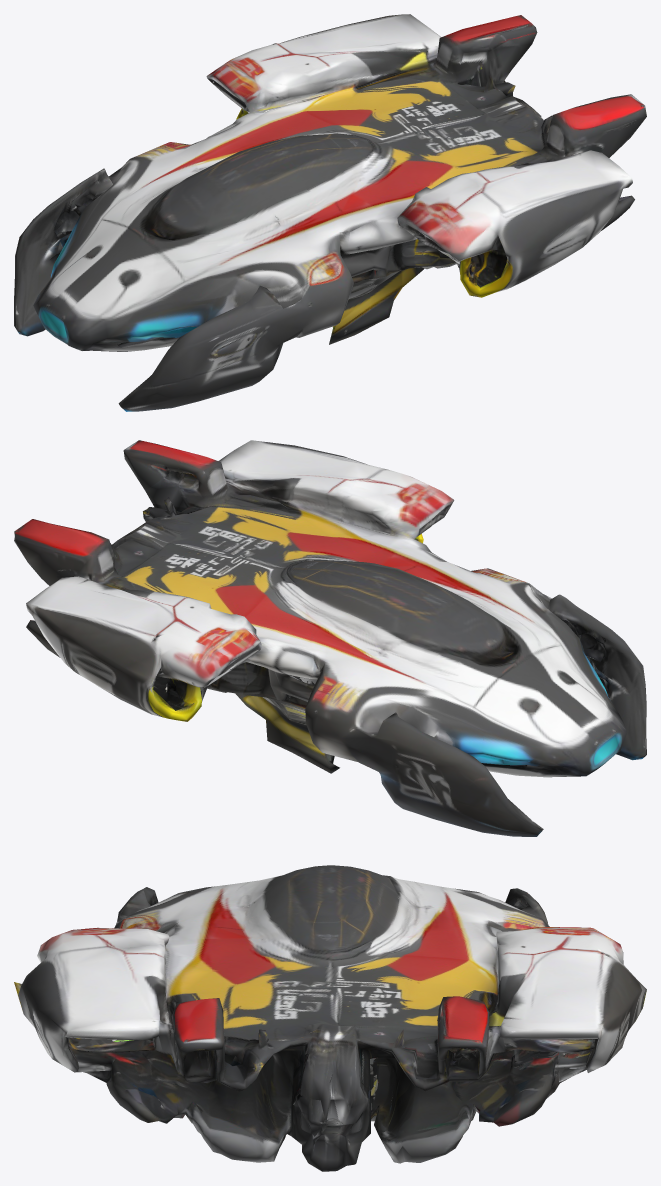
The model's file is hover_car.glb.
3 views of the same model, one above another, from view 1: azimuth 30°, elevation 25°; view 2: azimuth 150°, elevation 25°; view 3: azimuth 270°, elevation 25° (orthographic). The views are drawn at different scales.
Size of the model in its own units: 2 by 0.7888 by 1.74.
Materials: 1 (1 with a texture image).
